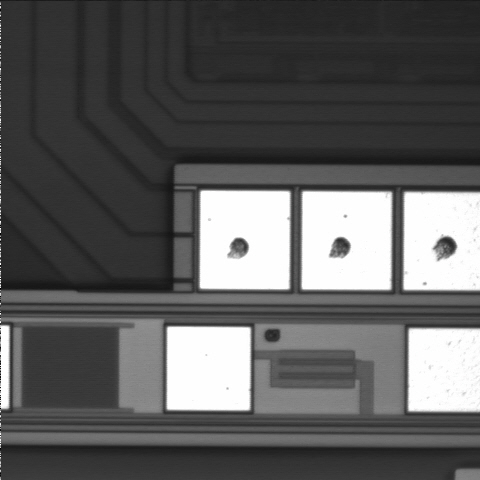pad: (302, 191, 392, 290), (200, 191, 290, 289), (167, 327, 250, 410)
